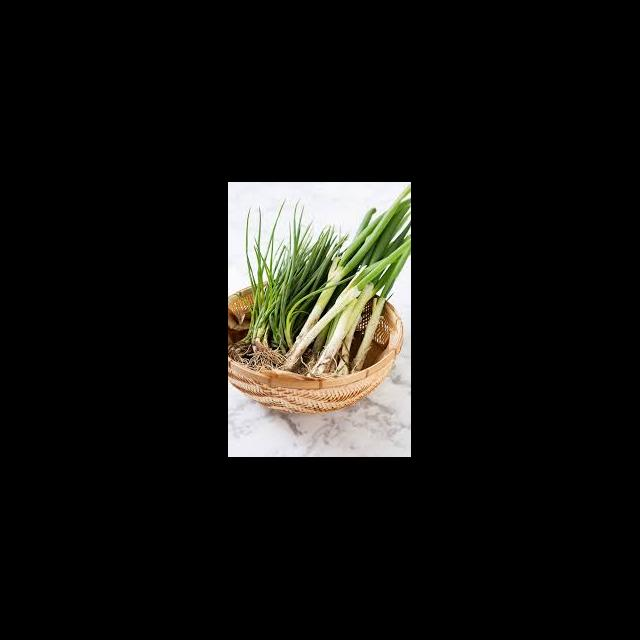green_onion: (284, 202, 410, 380)
